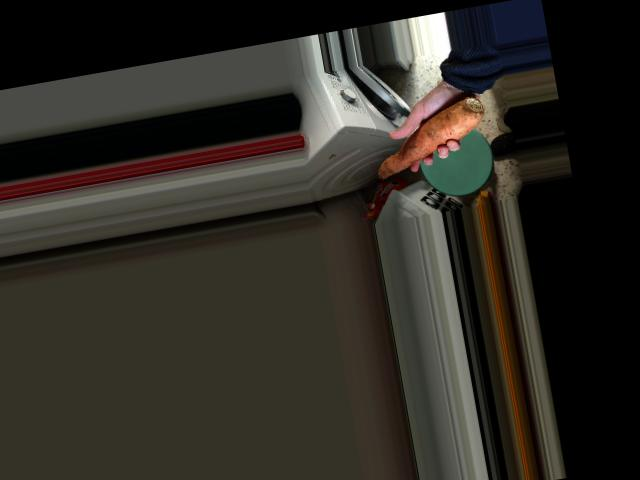sweet_potato: (358, 91, 495, 186)
